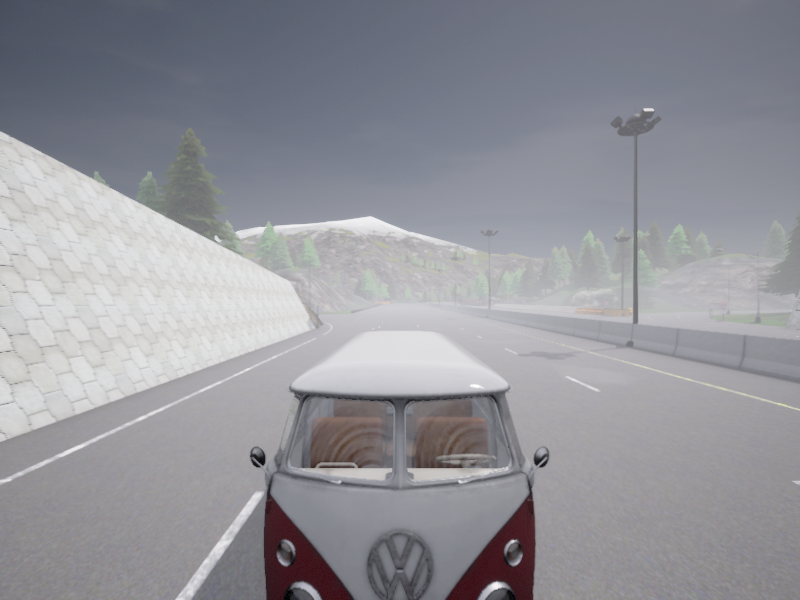vehicle: (250, 331, 549, 599), (459, 298, 467, 302)
